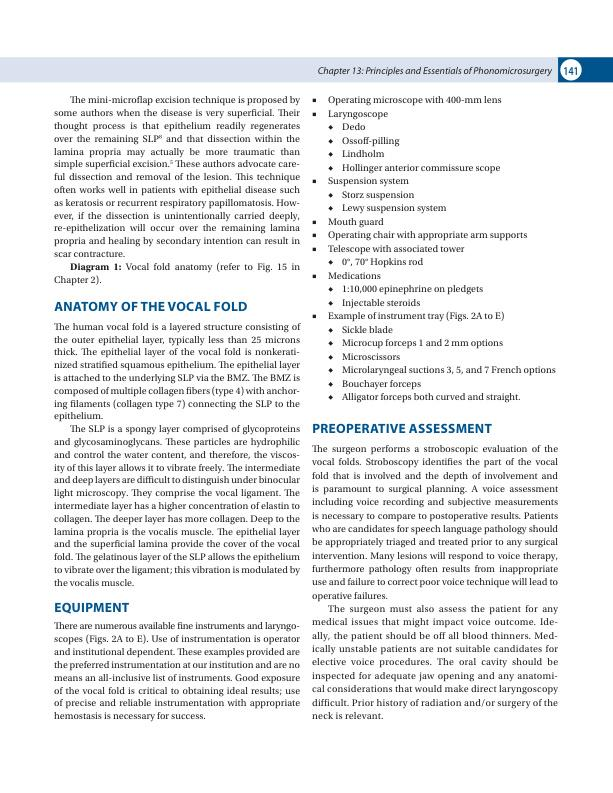header: (315, 65, 554, 78)
list: (310, 93, 558, 405)
section-heading: (52, 299, 249, 312), (311, 422, 493, 435), (53, 601, 131, 614)
text: (311, 443, 560, 721), (52, 321, 302, 588), (52, 94, 301, 287), (53, 620, 302, 721)
